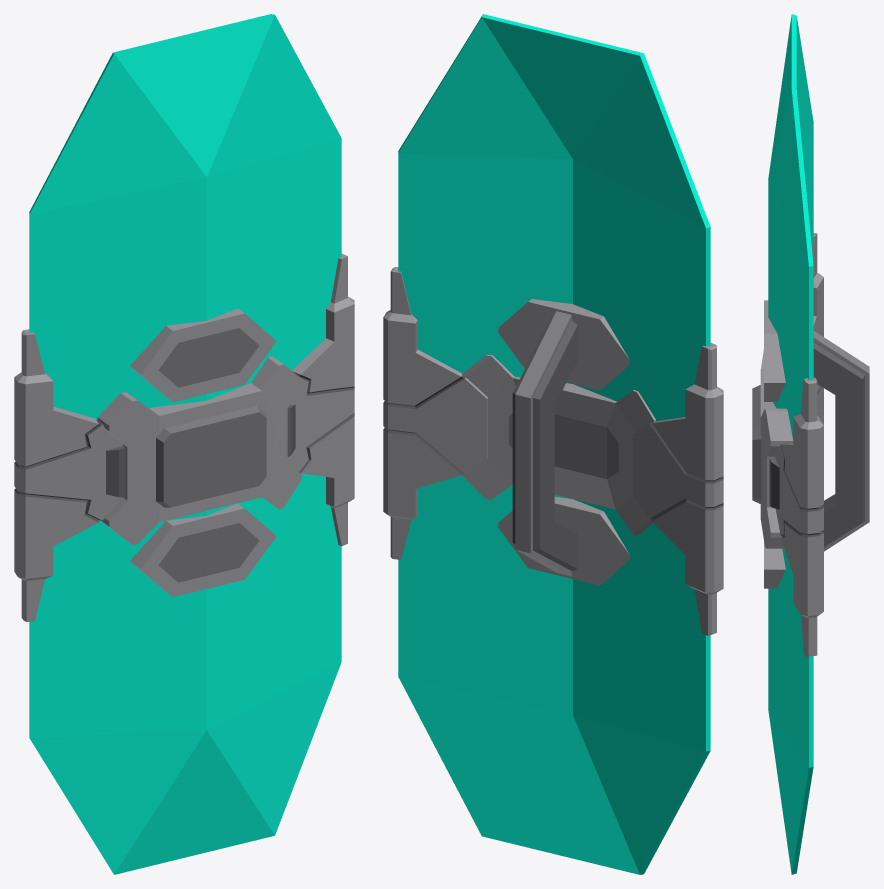
The model's file is worlds_SM_Wep_Shield_04.gltf.
The picture shows the model from 3 angles, left to right: view 1: azimuth 30°, elevation 25°; view 2: azimuth 150°, elevation 25°; view 3: azimuth 270°, elevation 25°; orthographic projection. The views are drawn at different scales.
Visible parts, largest first — view 1: SM_Wep_Shield_04; view 2: SM_Wep_Shield_04; view 3: SM_Wep_Shield_04.
Part boxes in pixels (box(x1,y1,x2,y2)): SM_Wep_Shield_04: box(14, 14, 354, 874); SM_Wep_Shield_04: box(383, 14, 723, 874); SM_Wep_Shield_04: box(752, 14, 869, 874).
Bounding box in the file's own units: 0.4809 × 1.12 × 0.1515.
Materials: 1 (1 with a texture image).
